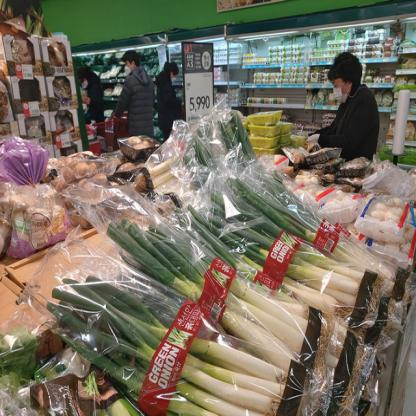green onion: (38, 248, 305, 416), (103, 194, 334, 375), (206, 123, 407, 305), (175, 183, 385, 334)
